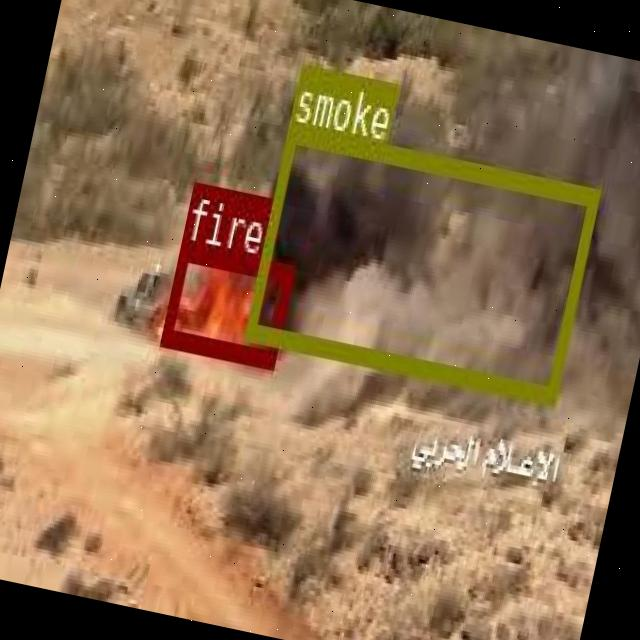fire: (159, 241, 294, 365)
smoke: (243, 120, 599, 399)
